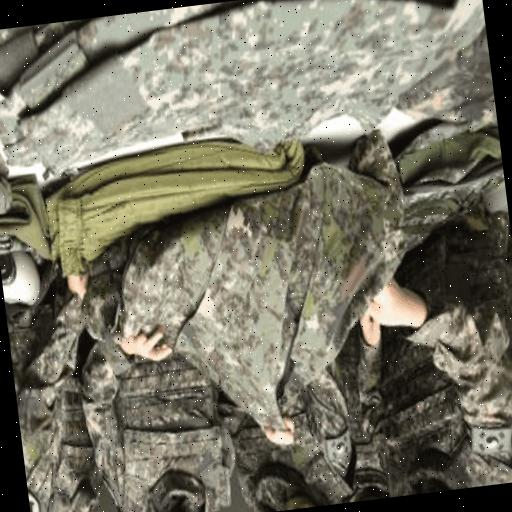korea army: (0, 115, 512, 512), (0, 0, 492, 183)
